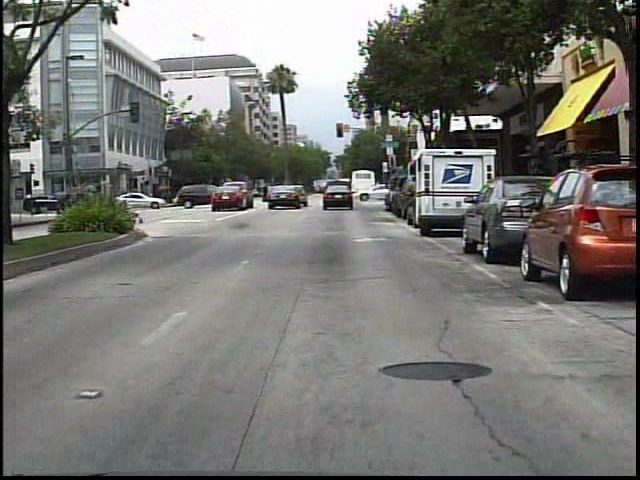person: (518, 149, 550, 236), (266, 182, 267, 206)
